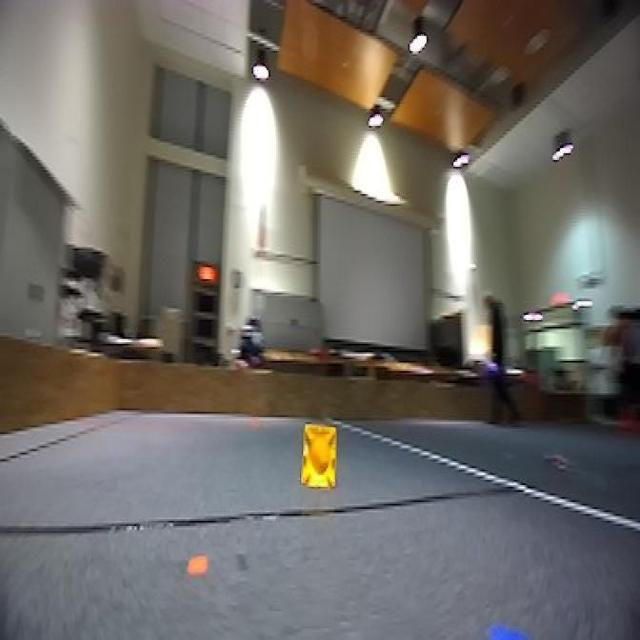frc_cone: (295, 420, 345, 497)
